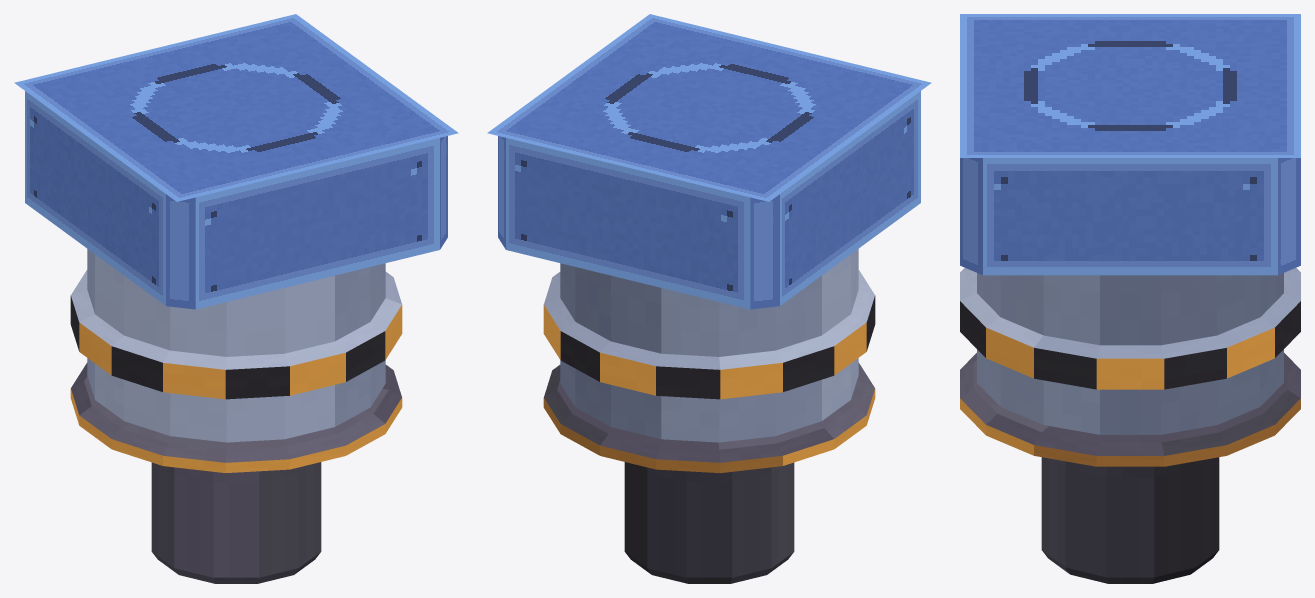
The model's file is support.glb.
The picture shows the model from 3 angles, left to right: view 1: azimuth 30°, elevation 25°; view 2: azimuth 150°, elevation 25°; view 3: azimuth 270°, elevation 25°; orthographic projection. The views are drawn at different scales.
Visible parts, largest first — view 1: support_body, support_sleeve, support_foot; view 2: support_body, support_sleeve, support_foot; view 3: support_body, support_sleeve, support_foot.
Part boxes in pixels (left/top/right/bottom): support_body: left=14, top=14, right=458, bottom=442; support_sleeve: left=151, top=462, right=321, bottom=583; support_foot: left=70, top=362, right=402, bottom=473; support_body: left=487, top=14, right=931, bottom=442; support_sleeve: left=624, top=462, right=794, bottom=583; support_foot: left=543, top=362, right=875, bottom=473; support_body: left=960, top=14, right=1300, bottom=434; support_sleeve: left=1041, top=457, right=1219, bottom=583; support_foot: left=960, top=353, right=1300, bottom=466.
Bounding box in the file's own units: 1 × 1.5 × 1.
1 material, 1 textured.
